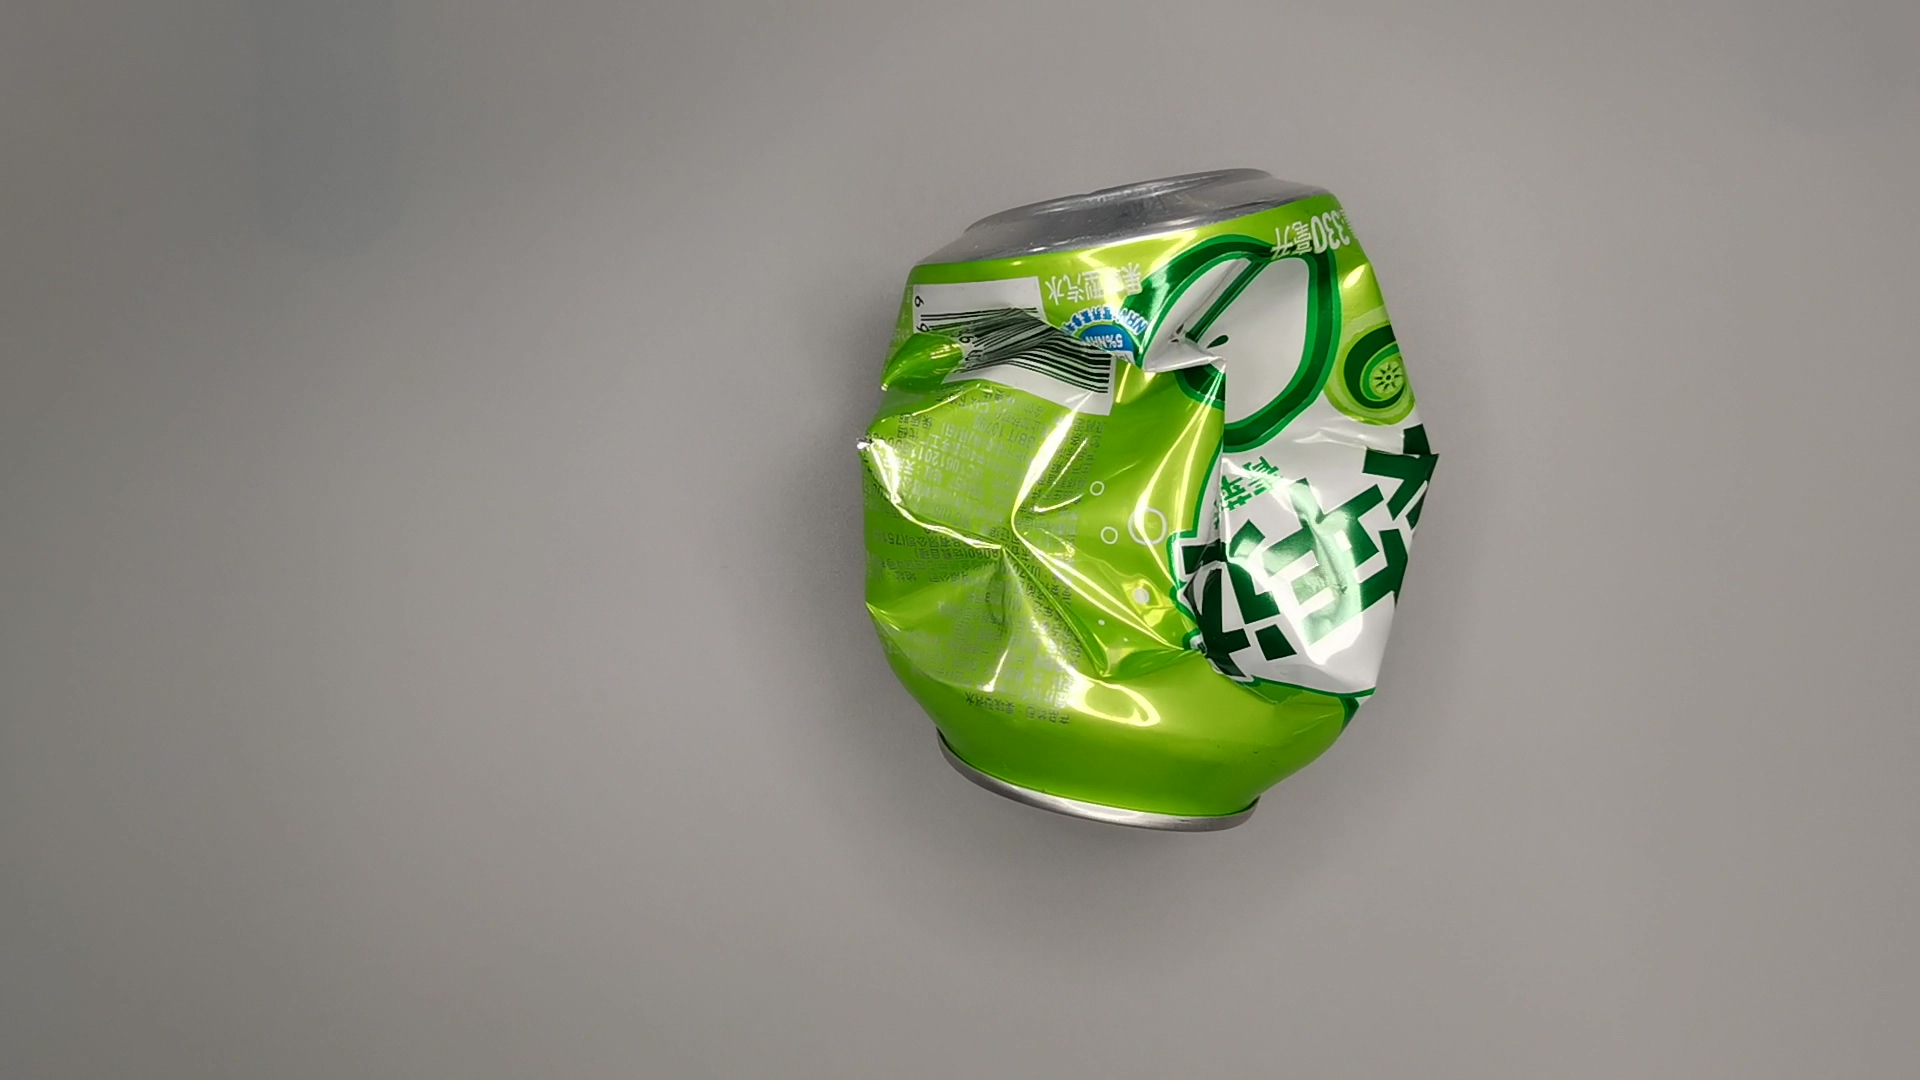can: (847, 153, 1445, 856)
